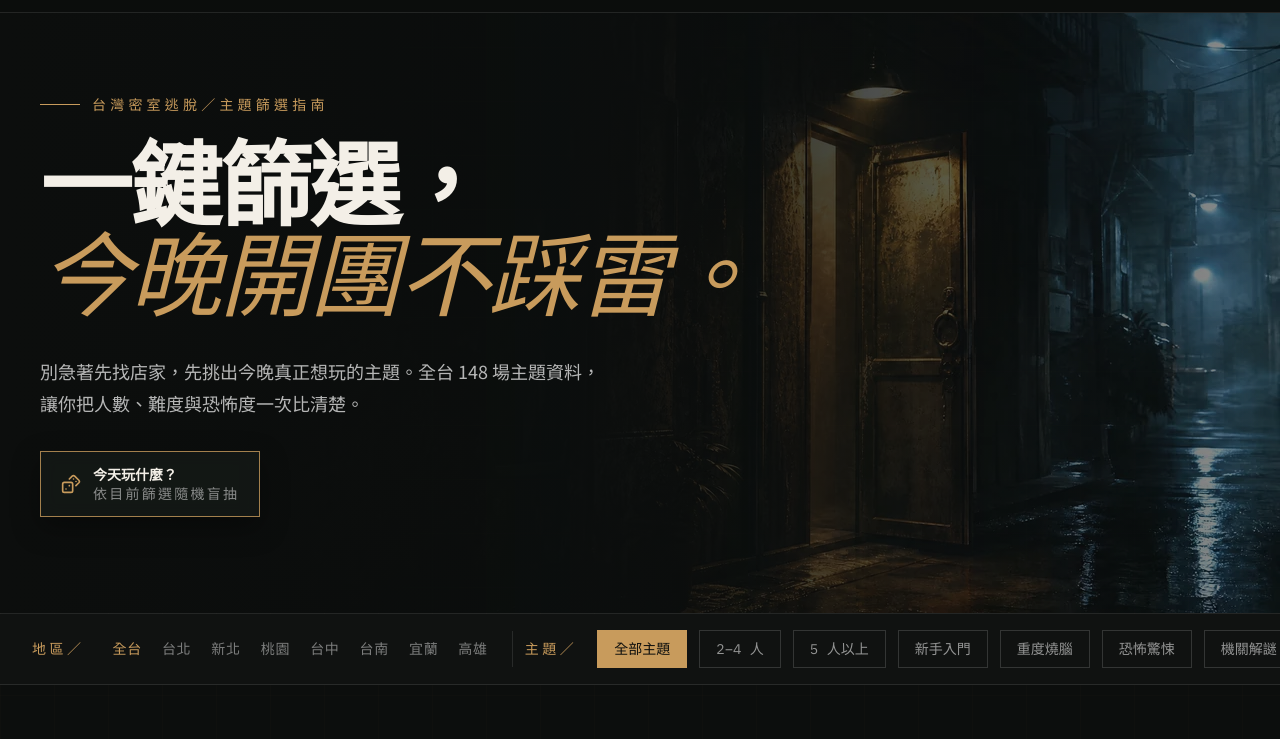
Test: Home blind-draw topic jump › closes the Dialog and highlights the matching card for a same-page jump
Click the button "今天玩什麼？ 依目前篩選隨機盲抽" at (150, 484), box x1=40 y1=451 x2=260 y2=517
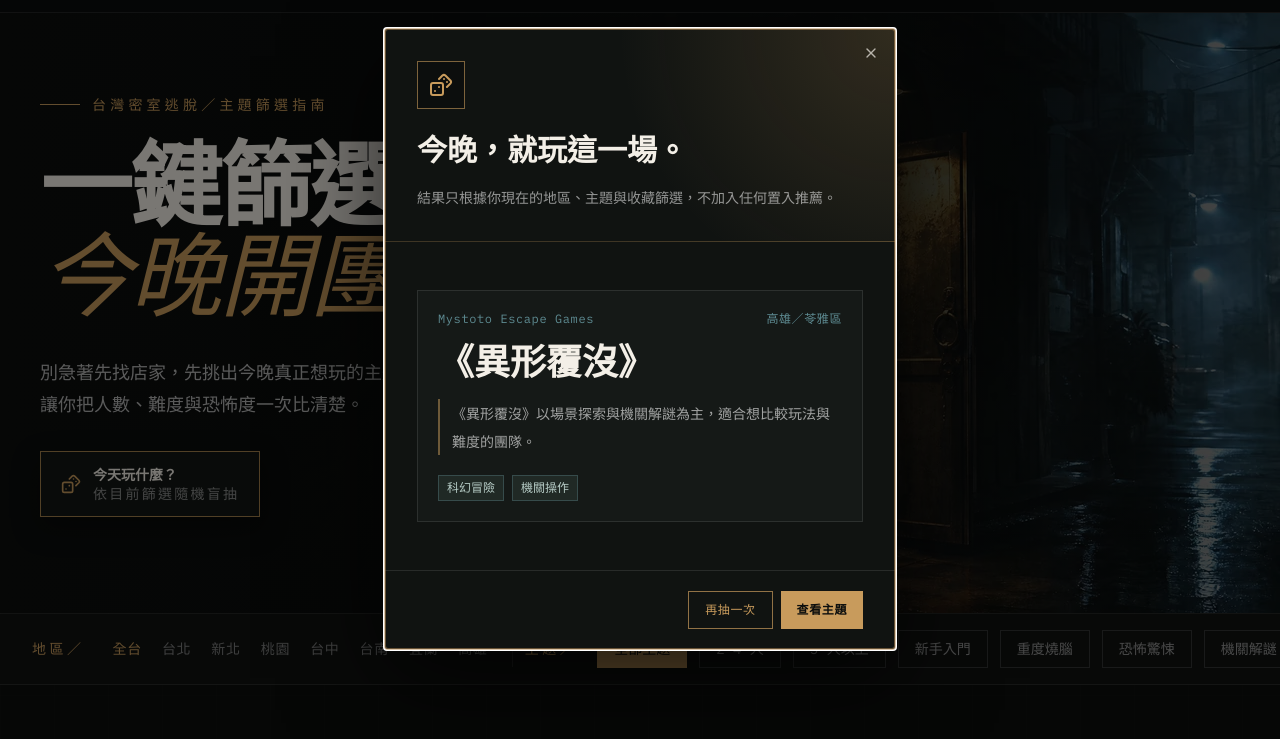
Expected: the button "查看主題" is shown
Click the button "查看主題" at (822, 610), box x1=781 y1=591 x2=863 y2=629
(page scrolled)
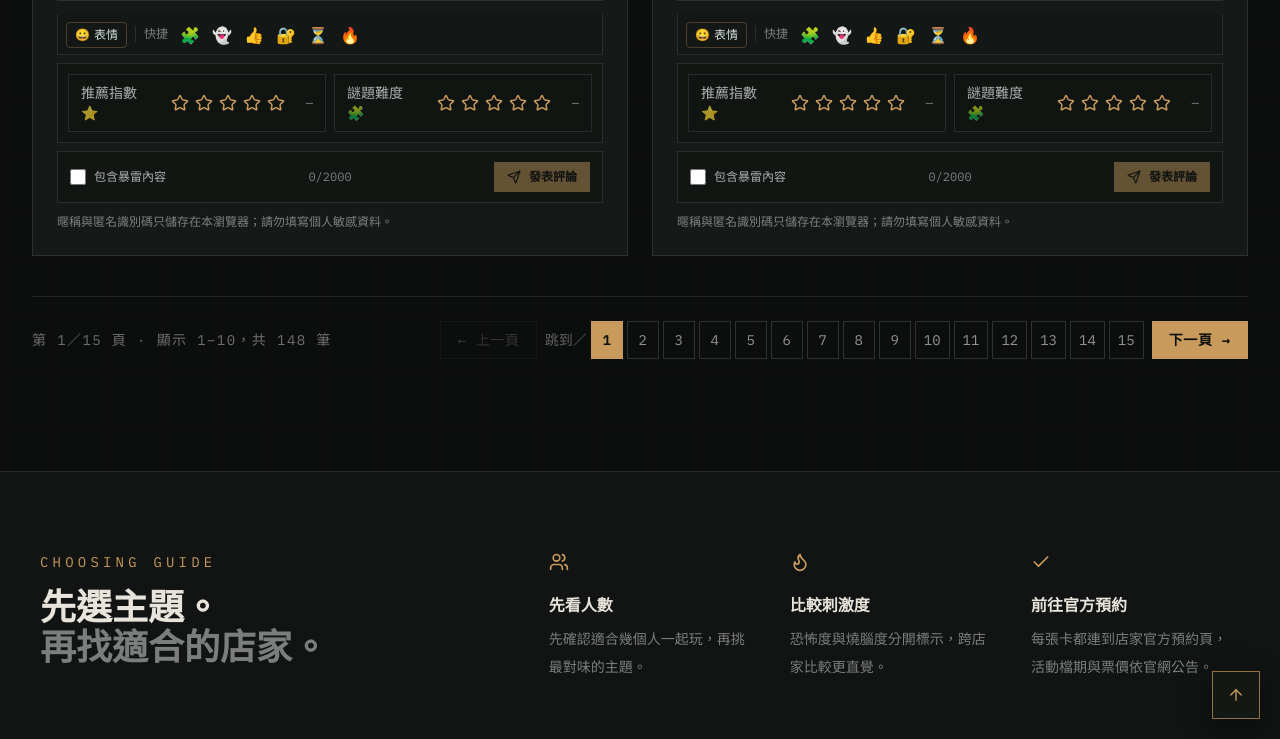
Expected: the dialog is gone
